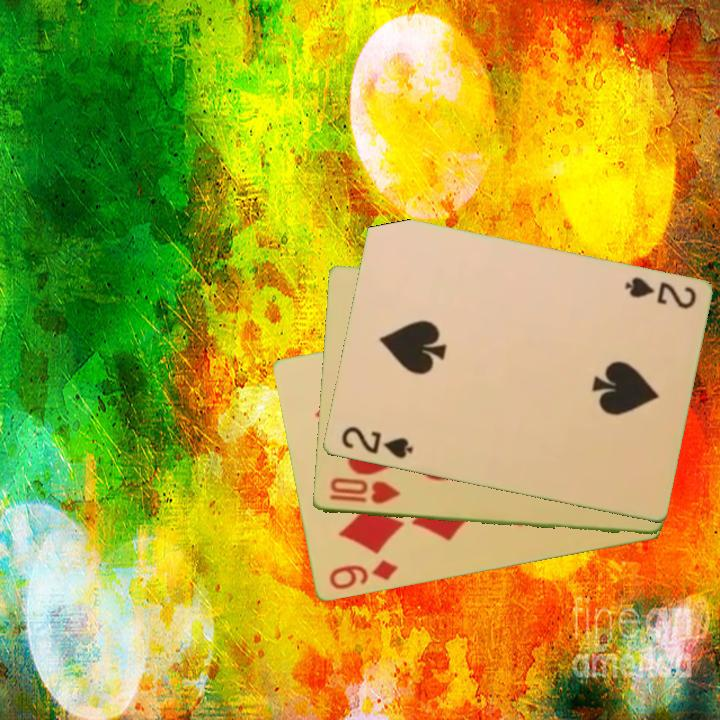10h: (325, 475, 403, 507)
2s: (337, 423, 416, 462), (620, 274, 699, 313)
9d: (325, 557, 401, 593)
